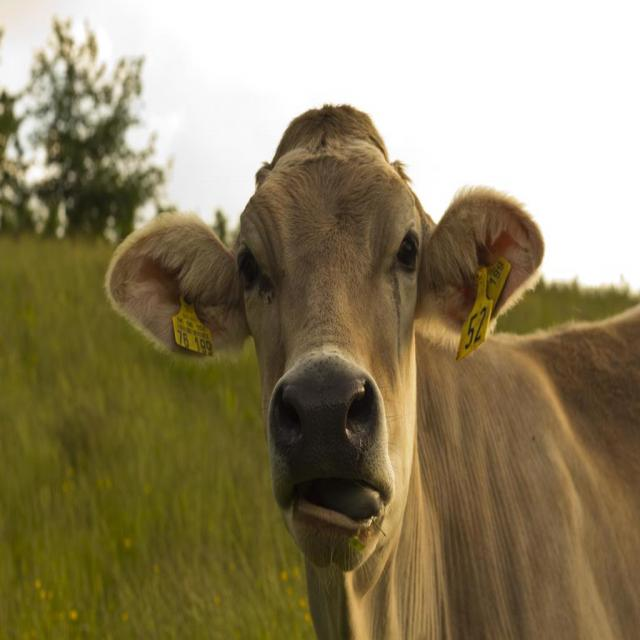Cattle: (103, 103, 640, 640)
